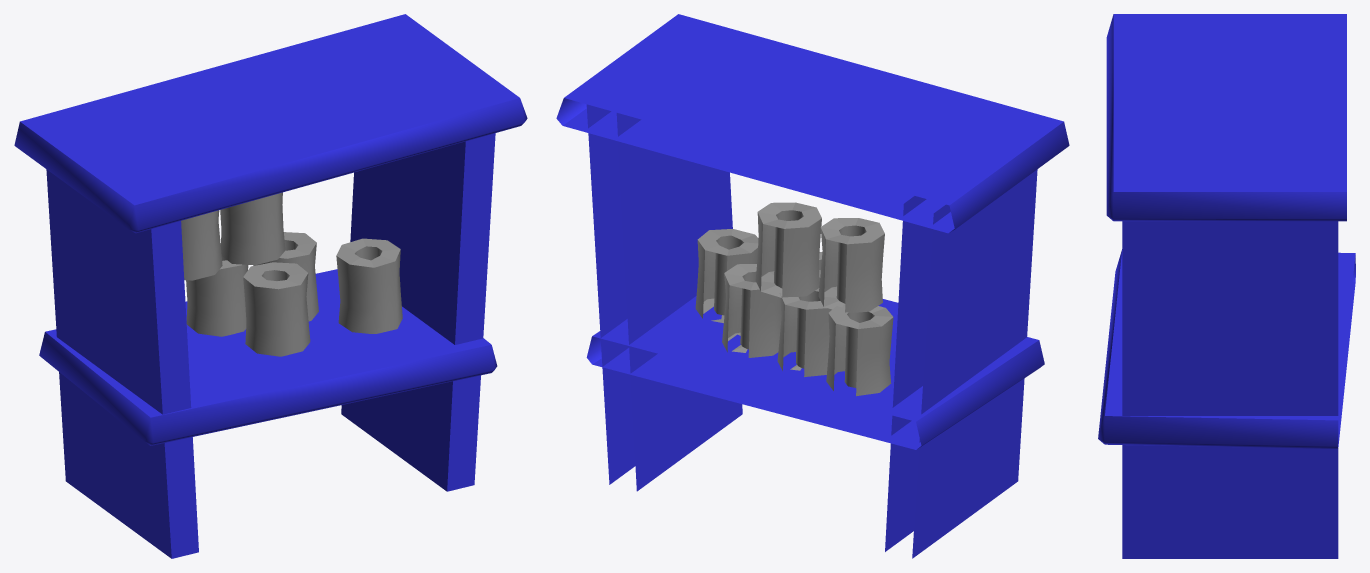
The model's file is BathroomShelvingPaper.FBX.
3 views of the same model, side by side, from view 1: azimuth 30°, elevation 25°; view 2: azimuth 150°, elevation 25°; view 3: azimuth 270°, elevation 25° (orthographic).
Visible parts, largest first — view 1: BathroomShelvingPaper; view 2: BathroomShelvingPaper; view 3: BathroomShelvingPaper.
Boxes of the visible parts, x1=… form: BathroomShelvingPaper: x1=14, y1=14, x2=527, y2=558; BathroomShelvingPaper: x1=556, y1=14, x2=1069, y2=558; BathroomShelvingPaper: x1=1098, y1=14, x2=1355, y2=558.
Bounding box in the file's own units: 4.25 × 3.87 × 2.34.
